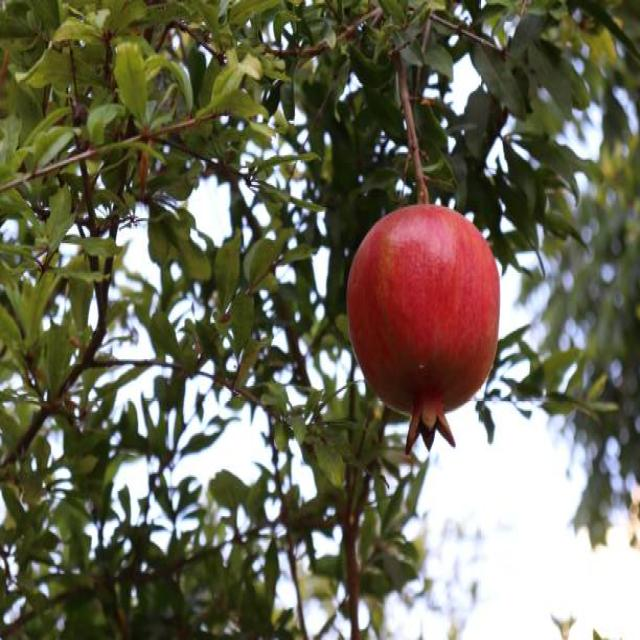Ripe: (344, 202, 503, 453)
